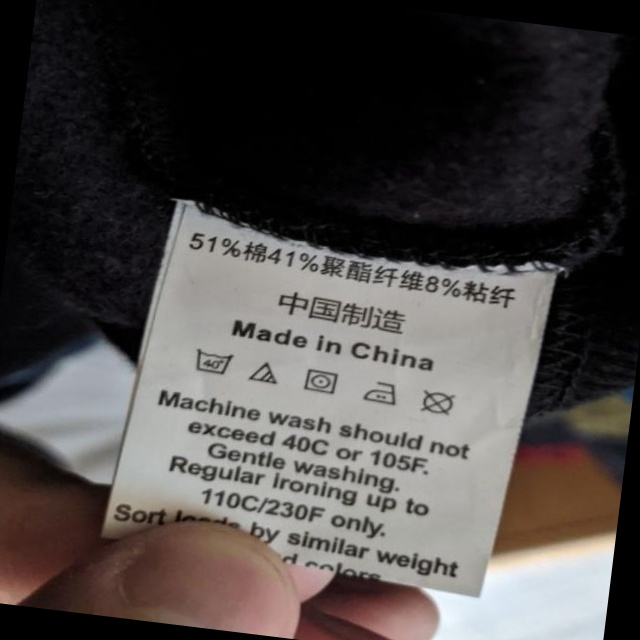40C: (189, 345, 240, 379)
DN_dry_clean: (416, 386, 461, 419)
iron_medium: (360, 377, 402, 407)
non_chlorine_bleach: (249, 359, 283, 389)
tumble_dry_low: (302, 364, 346, 396)
